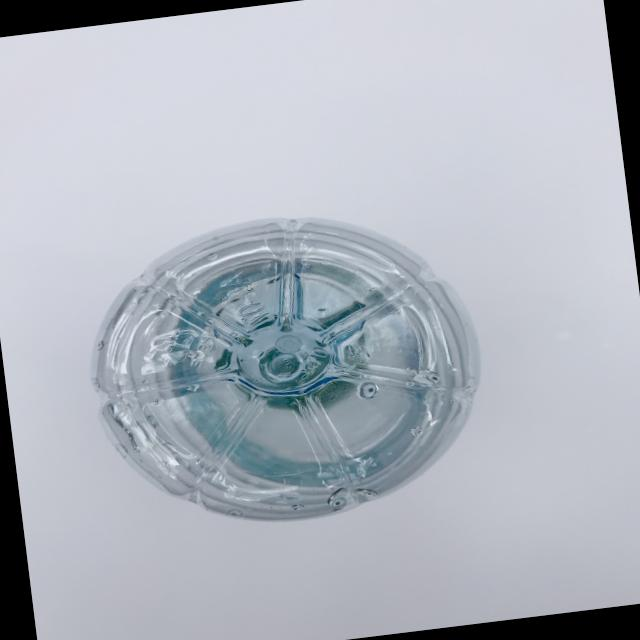Plastic: (56, 172, 513, 550)
